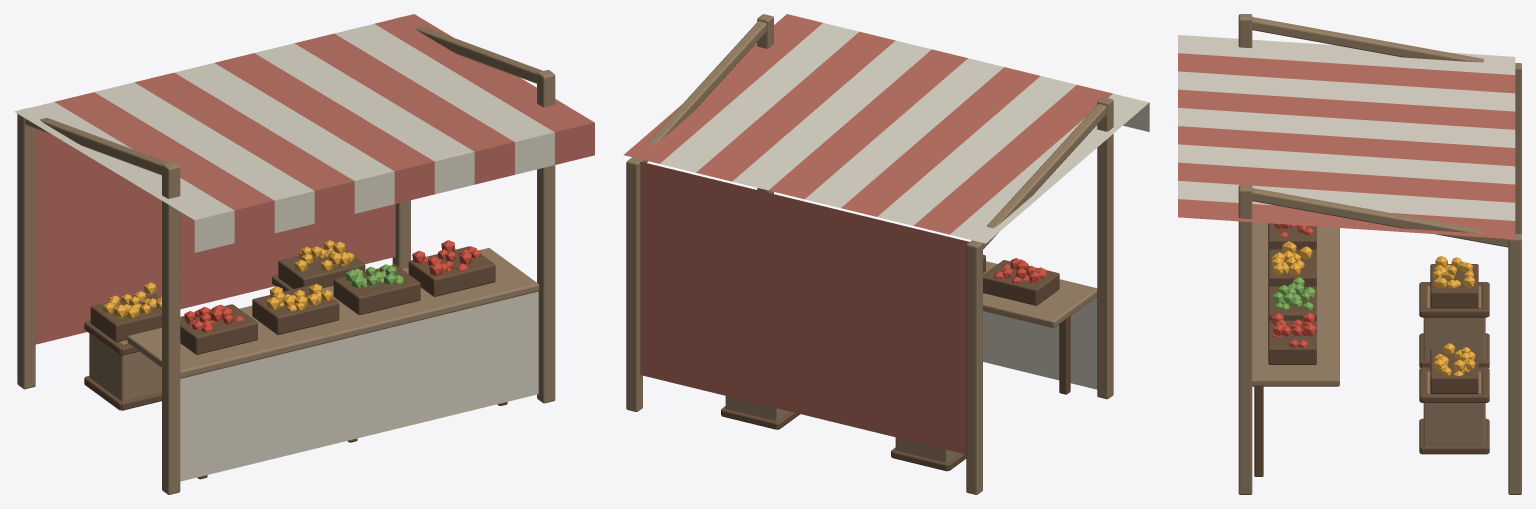
File: MarketStall.fbx
3 views of the same model, side by side, from view 1: azimuth 30°, elevation 25°; view 2: azimuth 150°, elevation 25°; view 3: azimuth 270°, elevation 25° (orthographic). The views are drawn at different scales.
Parts seen in each view (by area): view 1: MarketStall; view 2: MarketStall; view 3: MarketStall.
Boxes of the visible parts, bbox=[...] form: MarketStall: bbox=[14, 14, 594, 494]; MarketStall: bbox=[623, 14, 1149, 494]; MarketStall: bbox=[1178, 14, 1521, 494].
Bounding box in the file's own units: 3.2 × 2.5 × 2.55.
